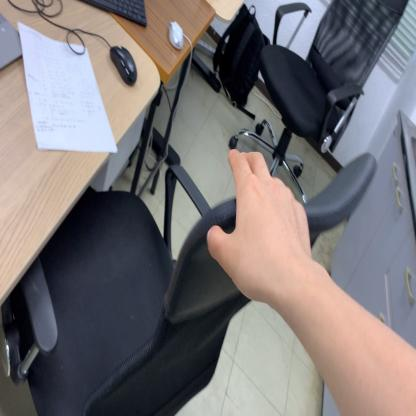chair: (0, 150, 378, 416), (227, 2, 412, 186)
